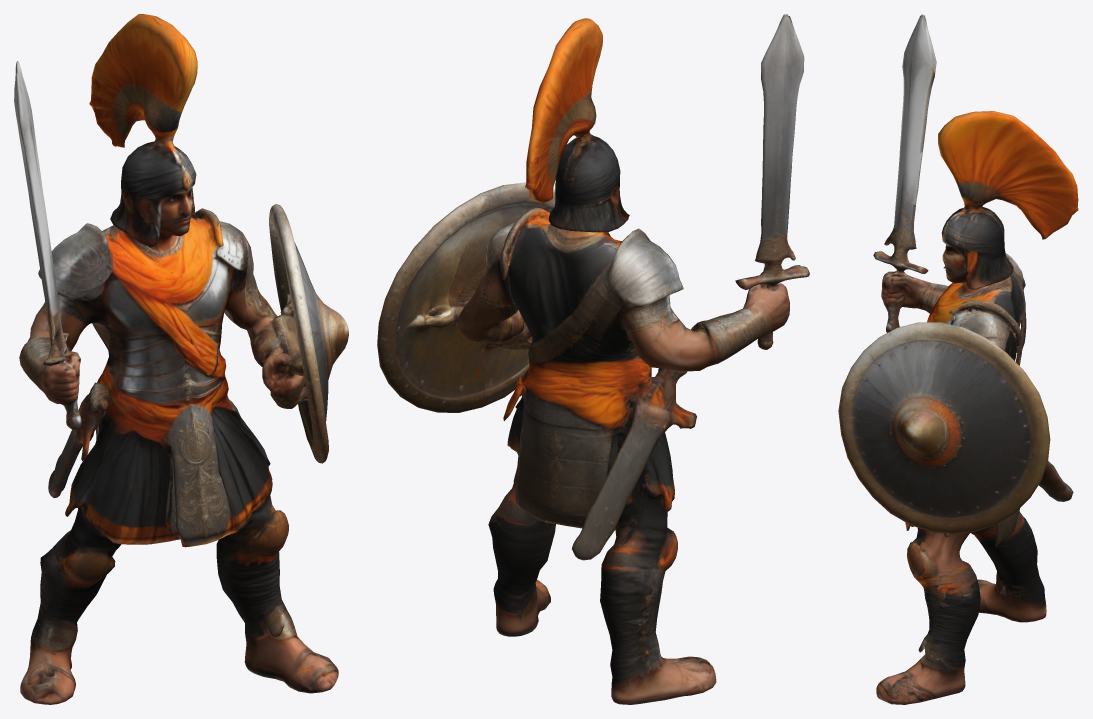
File: A_Indian_Warrior_with_1218070023_texture.fbx
3 views of the same model, side by side, from view 1: azimuth 30°, elevation 25°; view 2: azimuth 150°, elevation 25°; view 3: azimuth 270°, elevation 25° (orthographic). The views are drawn at different scales.
Visible parts, largest first — view 1: Mesh1_Mesh1.014; view 2: Mesh1_Mesh1.014; view 3: Mesh1_Mesh1.014.
Part boxes in pixels (x1,y1,x2,y2): Mesh1_Mesh1.014: (14,14,348,704); Mesh1_Mesh1.014: (377,14,809,704); Mesh1_Mesh1.014: (838,14,1078,704).
Bounding box in the file's own units: 108 × 198 × 75.87.
1 material, 1 textured.
